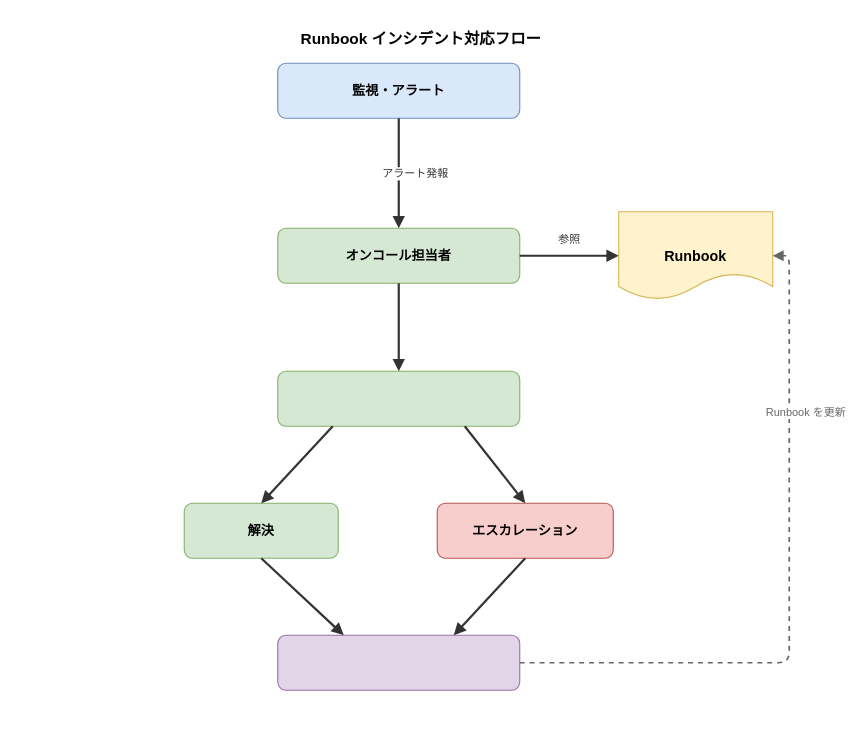
Some shapes in this 865 by 730 pixel diagram are drawn without their labels. Here are the shapes that lost their labels. From the top down, the centre of each, then its label:
(x=398, y=398): 対応・復旧
(x=398, y=662): ポストモーテム
